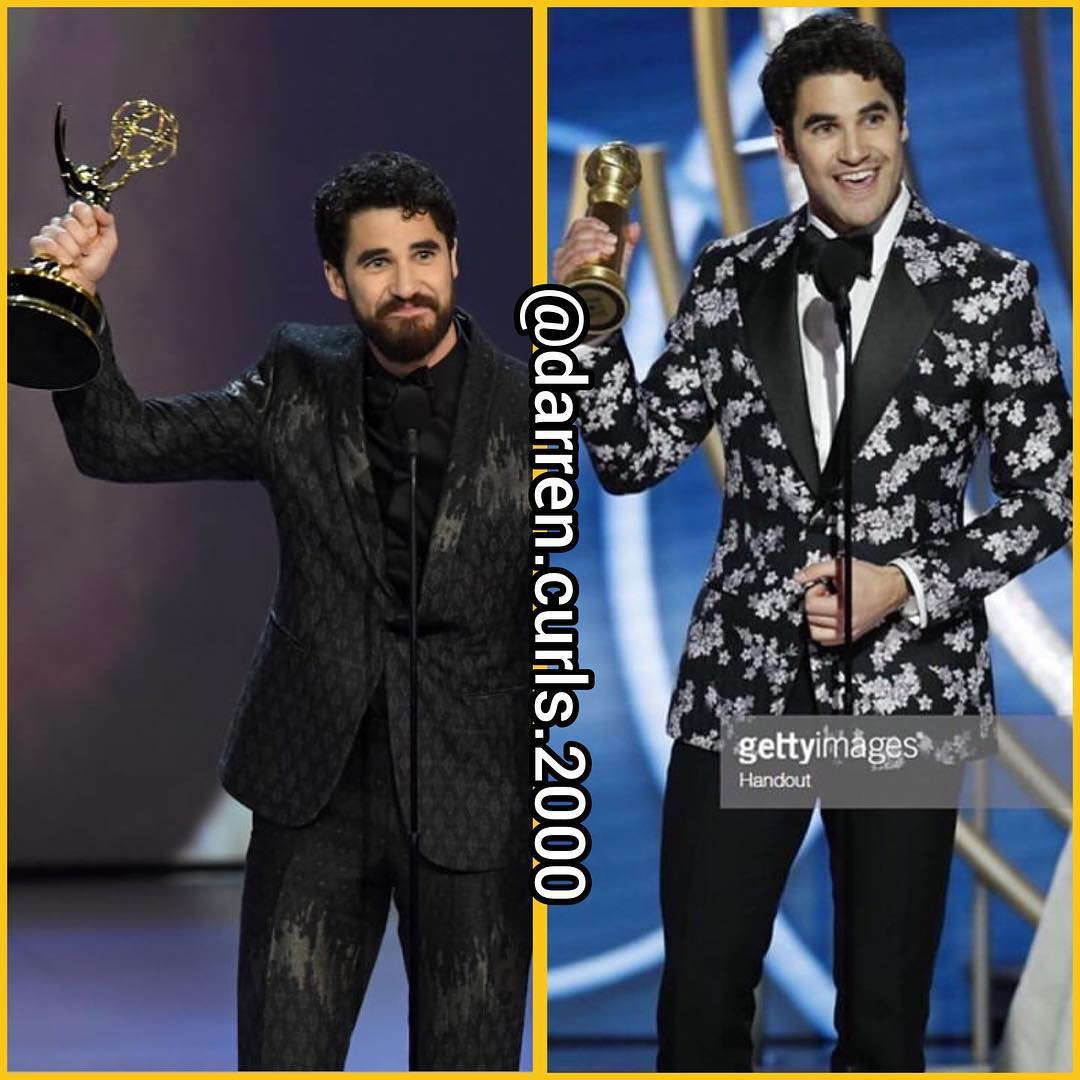hand: (803, 568, 908, 633)
